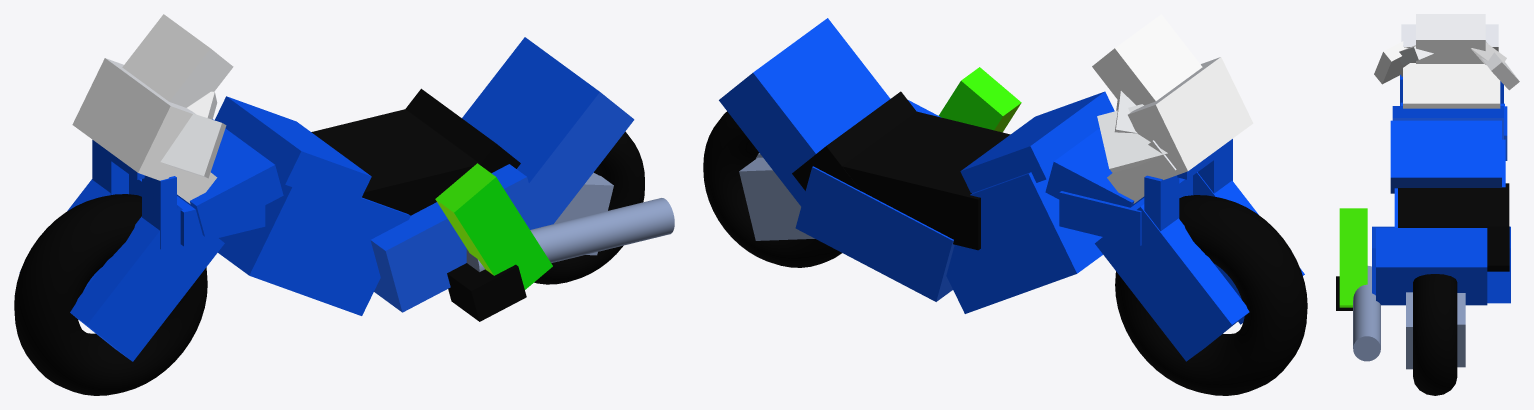
3 views of the same model, side by side, from view 1: azimuth 30°, elevation 25°; view 2: azimuth 150°, elevation 25°; view 3: azimuth 270°, elevation 25° (orthographic). The views are drawn at different scales.
Visible parts, largest first — view 1: mesh_0, object 111, mesh_5_2, object 110, mesh_1_2, mesh_7_2, object 115, mesh_13_1, object 117, mesh_18_1, object 112, object 116 (+18 smaller); view 2: mesh_0, object 111, object 110, mesh_5_3, mesh_2_3, mesh_7_2, object 112, mesh_13_1, mesh_7_5, mesh_18_1, object 114, object 115 (+19 smaller); view 3: object 111, mesh_6_2, object 112, mesh_7_2, mesh_12, object 115, object 117, mesh_18_2, mesh_18, mesh_6, object 110, mesh_4_2 (+15 smaller).
Boxes of the visible parts, x1,y1,x2,y2 form: mesh_0: (14, 194, 207, 395); object 111: (462, 37, 634, 226); mesh_5_2: (249, 187, 410, 315); object 110: (370, 164, 540, 312); mesh_1_2: (87, 206, 224, 361); mesh_7_2: (311, 109, 480, 192); object 115: (435, 163, 552, 289); mesh_13_1: (72, 58, 170, 172); object 117: (466, 198, 674, 271); mesh_18_1: (122, 14, 210, 101); object 112: (534, 131, 644, 284); object 116: (447, 263, 526, 321); mesh_0: (1115, 195, 1307, 395); object 111: (719, 18, 890, 206); object 110: (795, 100, 954, 301); mesh_5_3: (946, 174, 1076, 313); mesh_2_3: (1095, 207, 1231, 361); mesh_7_2: (842, 111, 1010, 199); object 112: (703, 111, 841, 267); mesh_13_1: (1156, 57, 1253, 170); mesh_7_5: (842, 166, 978, 250); mesh_18_1: (1115, 14, 1202, 100); object 114: (739, 157, 814, 240); object 115: (938, 67, 1021, 132); object 111: (1376, 228, 1487, 305); mesh_6_2: (1390, 120, 1501, 177); object 112: (1413, 274, 1457, 395); mesh_7_2: (1398, 183, 1509, 227); mesh_12: (1403, 51, 1500, 103); object 115: (1339, 208, 1367, 307); object 117: (1353, 266, 1380, 361); mesh_18_2: (1416, 14, 1485, 39); mesh_18: (1416, 40, 1485, 63); mesh_6: (1390, 177, 1501, 193); object 110: (1372, 226, 1510, 303); mesh_4_2: (1392, 106, 1503, 117).
Size of the model in its own units: 3.75 by 2.01 by 1.32.
